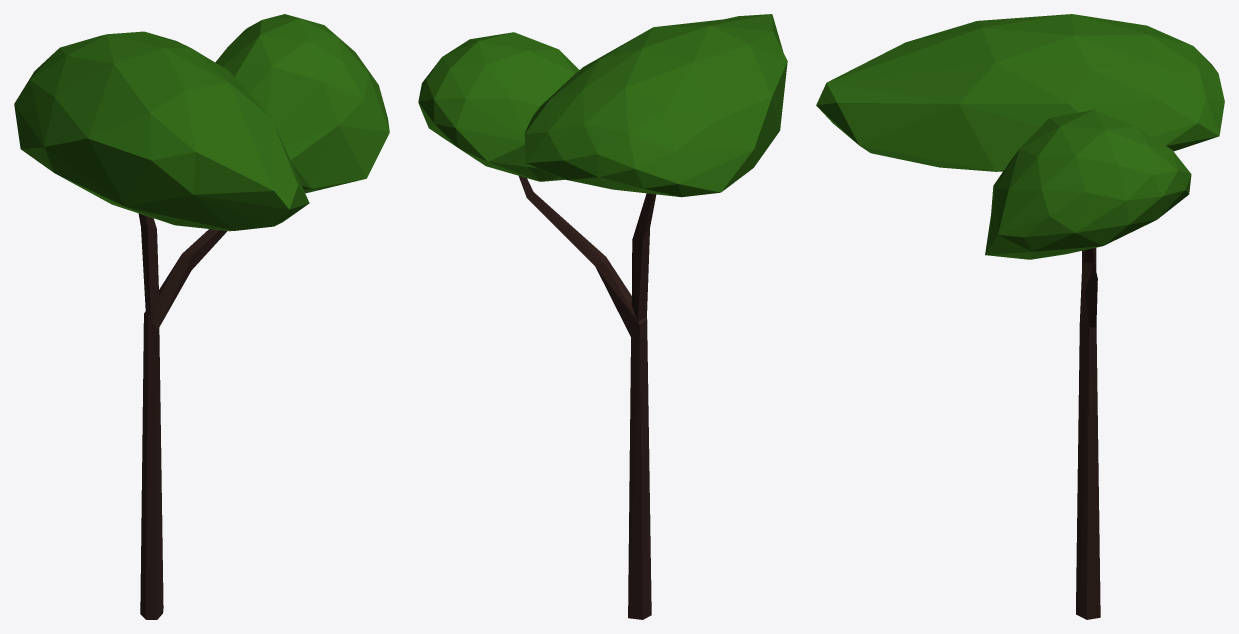
File: SM_tree_03.fbx
3 views of the same model, side by side, from view 1: azimuth 30°, elevation 25°; view 2: azimuth 150°, elevation 25°; view 3: azimuth 270°, elevation 25° (orthographic). The views are drawn at different scales.
Visible parts, largest first — view 1: Object025; view 2: Object025; view 3: Object025.
Boxes of the visible parts, box(x1,y1,x2,y2) form: Object025: box(14, 14, 389, 619); Object025: box(418, 14, 787, 619); Object025: box(816, 14, 1224, 619).
Bounding box in the file's own units: 172 × 288 × 183.
